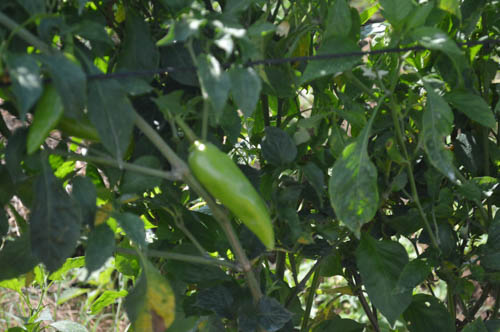ChiliPepper: (190, 139, 275, 253), (26, 80, 63, 163)
